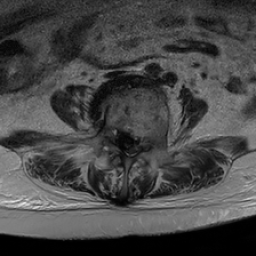CCS_severe_stenosis: (125, 132, 133, 162)
LFS_severe_stenosis: (142, 129, 150, 150)
LLS_normal: (133, 134, 141, 157)
RFS_severe_stenosis: (108, 125, 117, 148)
RLS_severe_stenosis: (117, 132, 125, 154)
